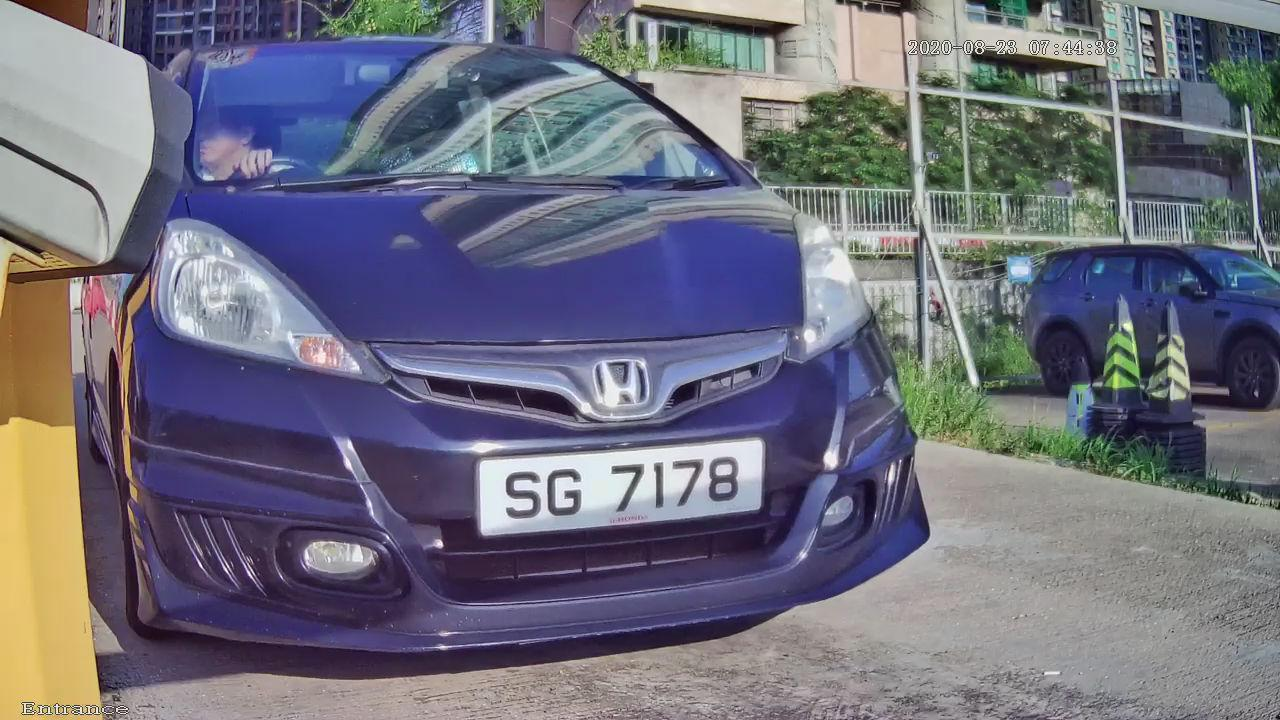Car: (23, 10, 966, 688)
License Plate: (447, 397, 816, 563)
